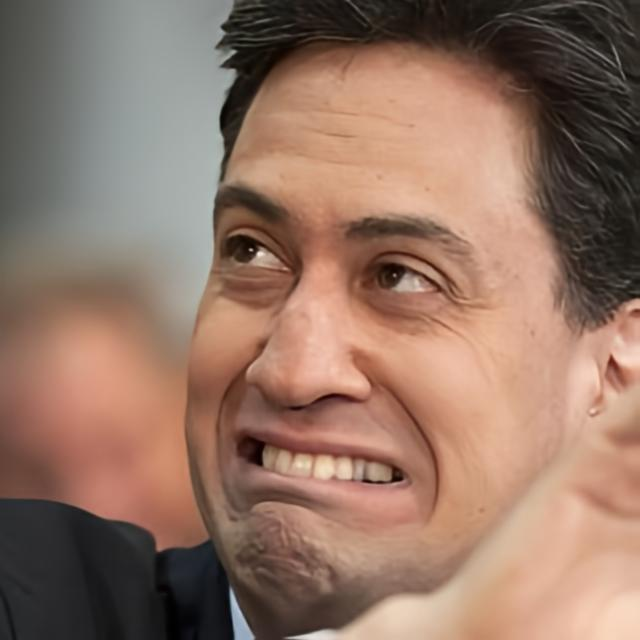disgust: (180, 45, 598, 632)
